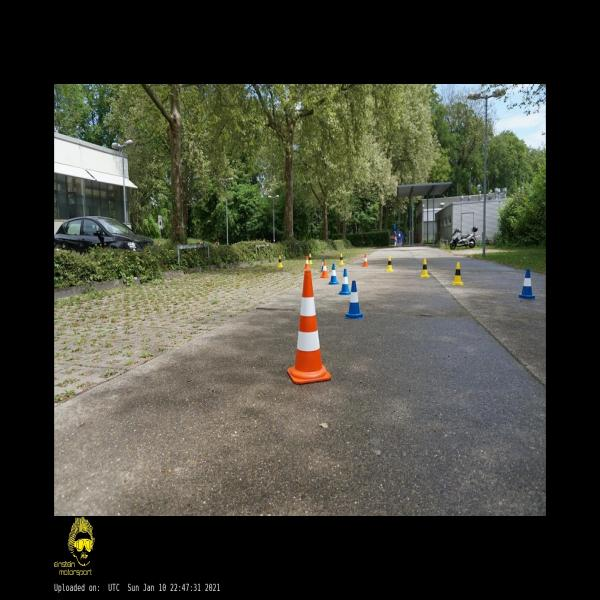blue_cone: (345, 281, 363, 319), (519, 269, 535, 300), (339, 268, 351, 294), (329, 263, 338, 284), (320, 257, 324, 272)
large_orange_cone: (287, 272, 330, 383)
orange_cone: (320, 260, 329, 278), (304, 256, 309, 270), (363, 254, 368, 266)
yellow_cone: (452, 262, 463, 284), (420, 258, 430, 277), (386, 256, 393, 271), (338, 253, 344, 265), (278, 255, 282, 267), (308, 254, 312, 264)
